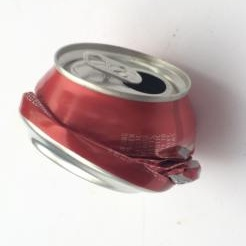Metal: (22, 32, 205, 202)
